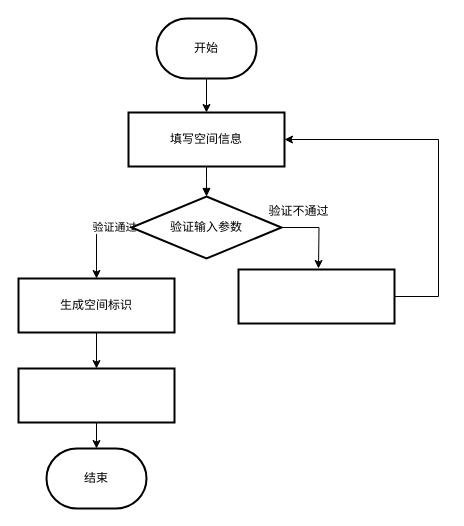
Some shapes in this 464 by 526 pixel diagram are drawn without their labels. Here are the shapes that lost their labels. From the top down, the box of each, then its label:
(237, 268, 395, 324): 显示验证错误
(17, 367, 175, 423): 更新空间列表
